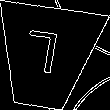L_S: (25, 30, 68, 85)
